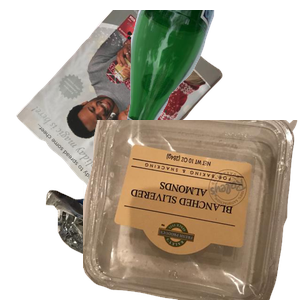glass: (109, 10, 300, 167)
paper: (14, 10, 229, 190)
plastic: (83, 120, 300, 300)
trash: (43, 187, 234, 300)
